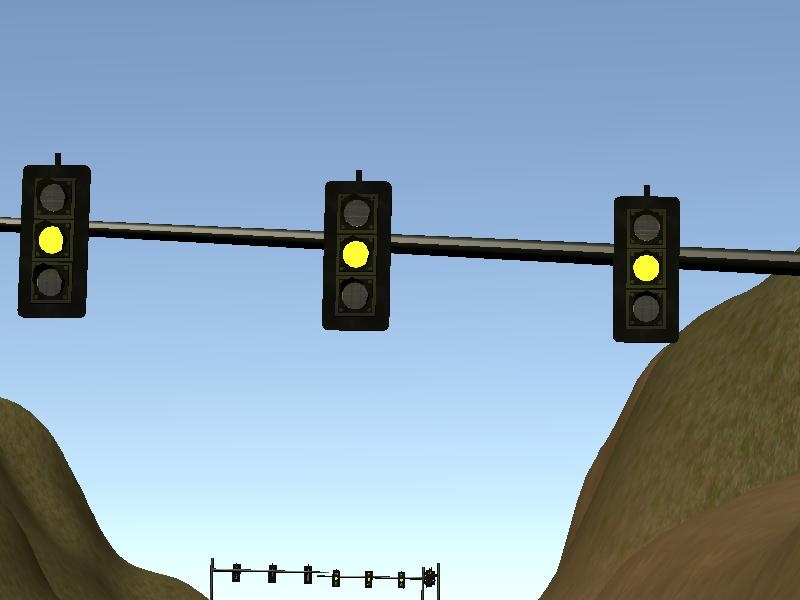yellow: (9, 142, 97, 331), (601, 178, 691, 351), (314, 163, 399, 340)
